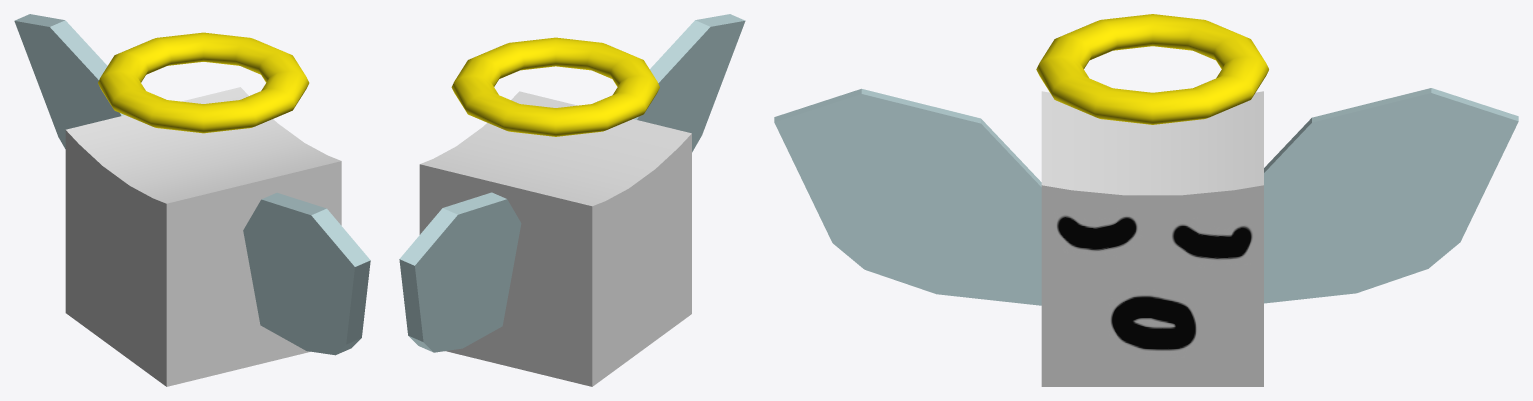
File: angel.fbx
3 renders of one model, left to right at view 1: azimuth 30°, elevation 25°; view 2: azimuth 150°, elevation 25°; view 3: azimuth 270°, elevation 25°, orthographic. The views are drawn at different scales.
Parts seen in each view (by area): view 1: Plane.001; view 2: Plane.001; view 3: Plane.001.
Part boxes in pixels (bbox=[...]): Plane.001: bbox=[14, 14, 370, 386]; Plane.001: bbox=[399, 14, 745, 386]; Plane.001: bbox=[774, 14, 1518, 386].
Bounding box in the file's own units: 209 × 281 × 669.
1 material, 1 textured.
